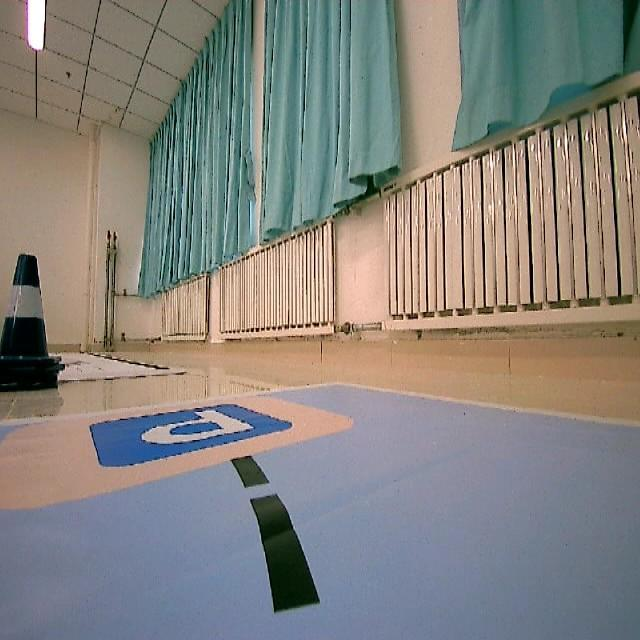obstacle: (0, 249, 56, 399)
